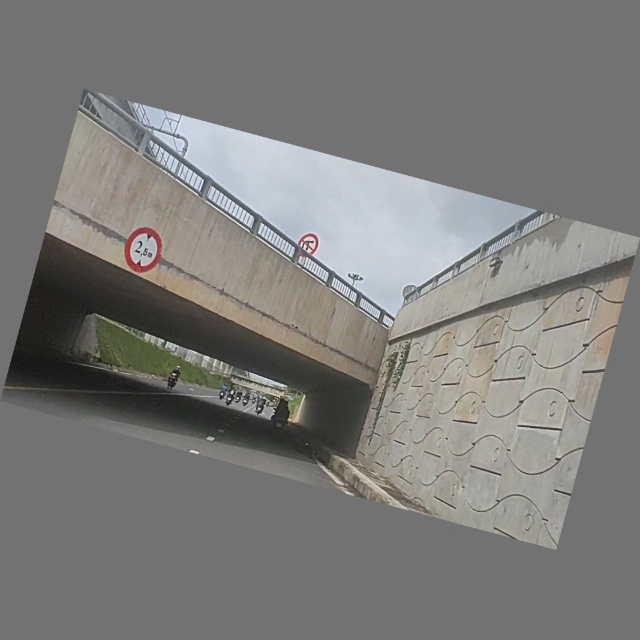P.117*: (119, 223, 169, 279)
P.124d: (295, 230, 322, 261)
